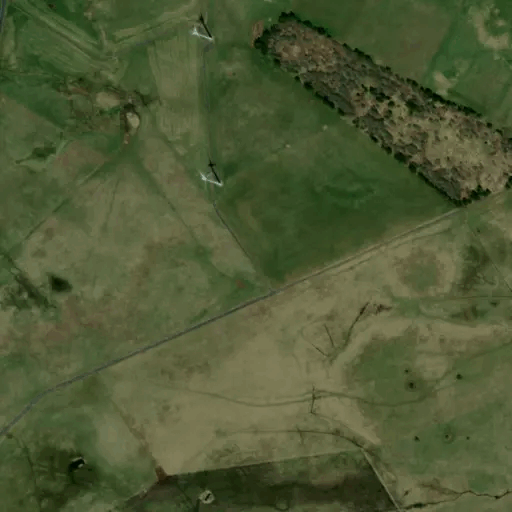wt: (192, 154, 227, 190), (181, 11, 217, 45)
